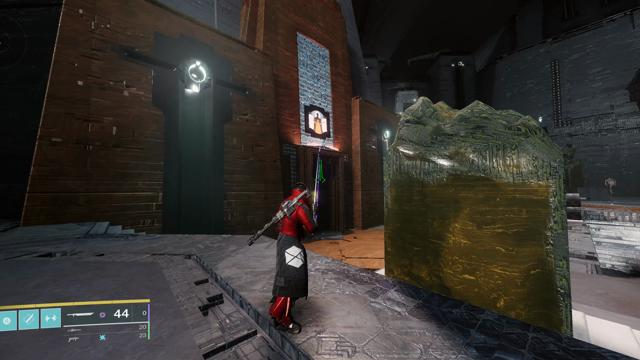worship: (309, 111, 327, 134)
